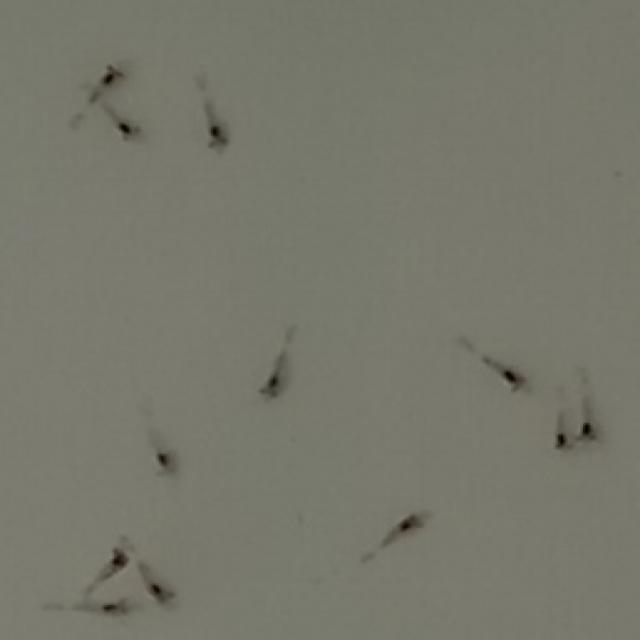shrimp-seed: (84, 56, 132, 100), (256, 354, 292, 404), (104, 110, 145, 146), (200, 114, 233, 154), (390, 510, 430, 540), (150, 444, 180, 480), (142, 578, 178, 608), (496, 364, 529, 394), (101, 543, 130, 576), (546, 422, 574, 454), (102, 596, 134, 623), (575, 414, 599, 443)
